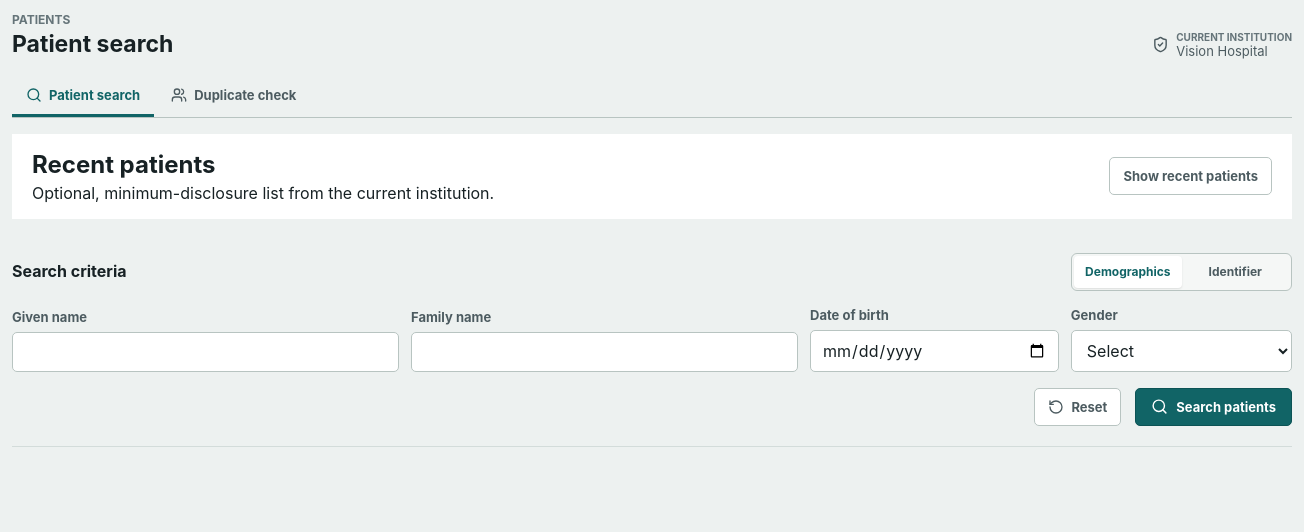
Test: PatientSearchPage › submits configured identifier criteria without client-side normalization
Click the button "Identifier" at (1235, 272), box [1182, 256, 1289, 288]
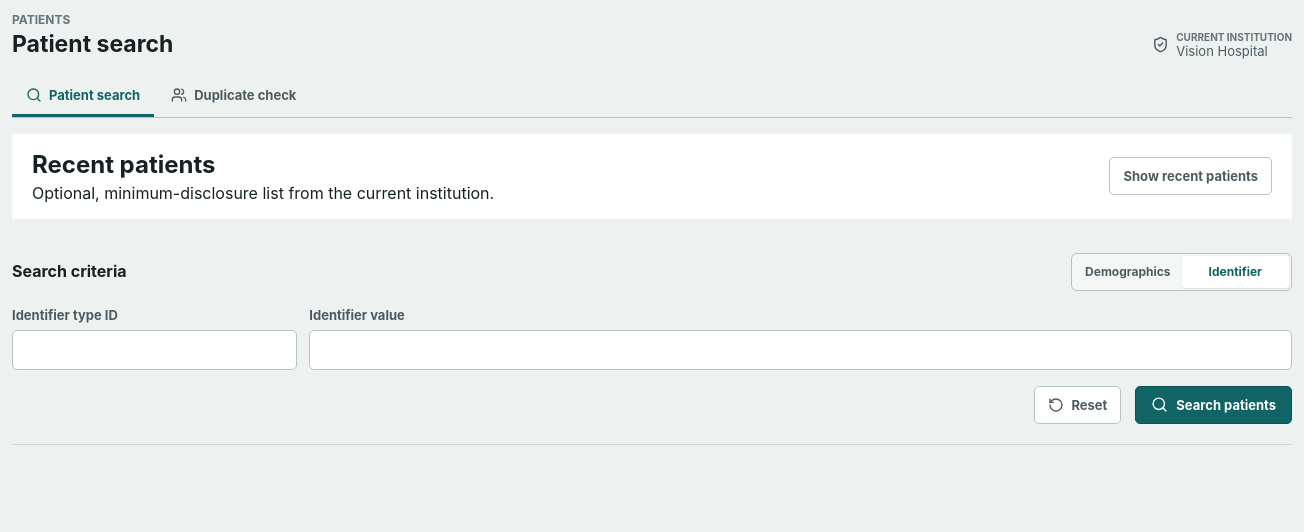
Type "7" into the field labelled "Identifier type ID" at (155, 350), box [12, 330, 297, 370]
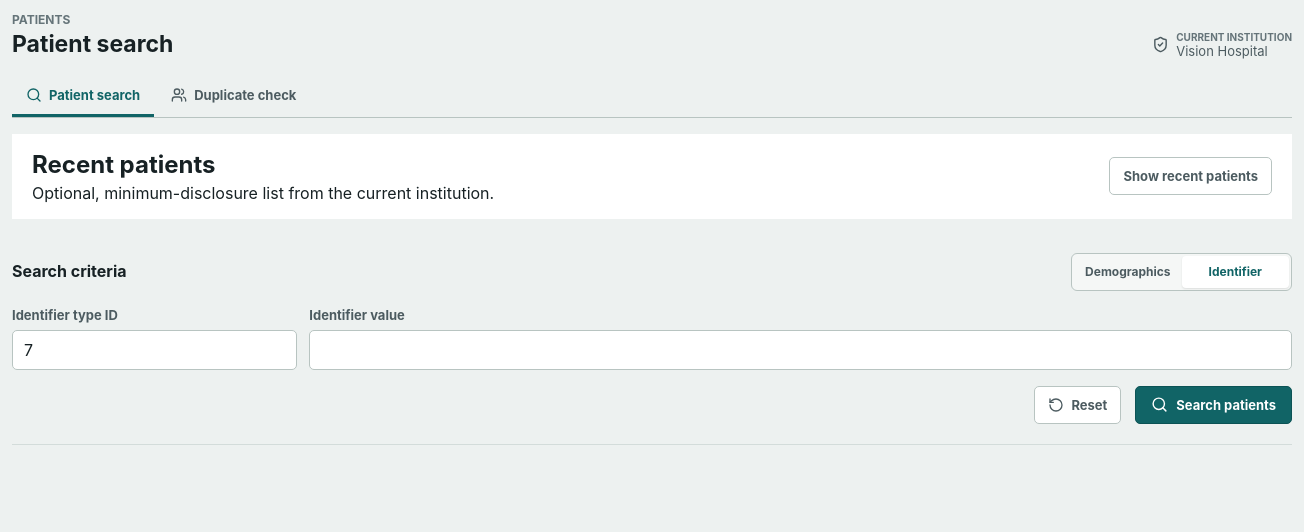
Type " H 123 " into the field labelled "Identifier value" at (801, 350), box [309, 330, 1292, 370]
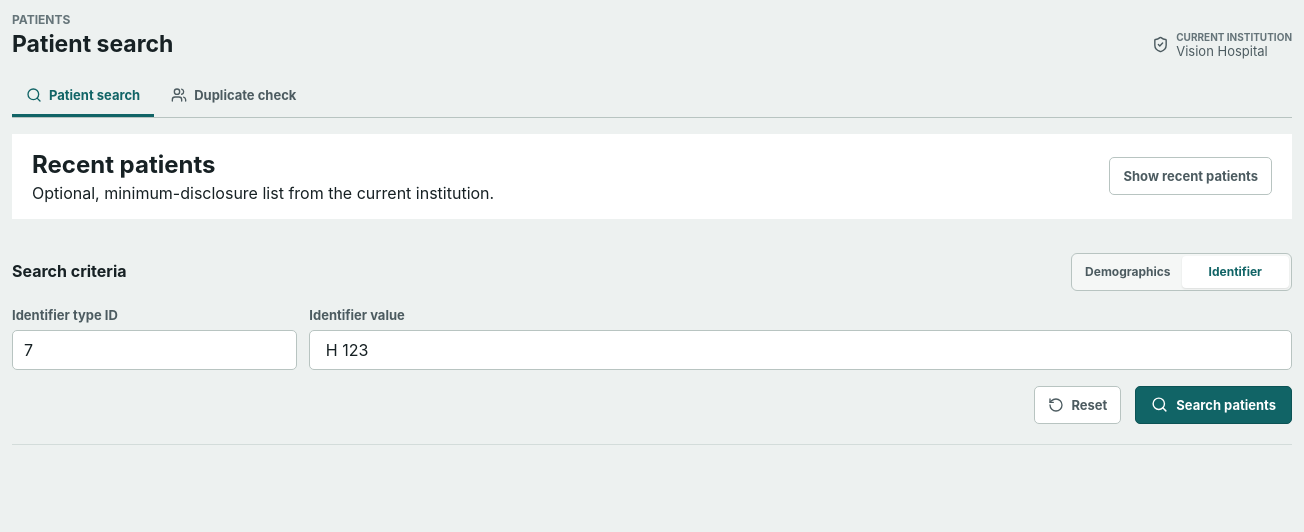
Click the button "Search patients" at (1214, 405), box [1135, 386, 1292, 424]
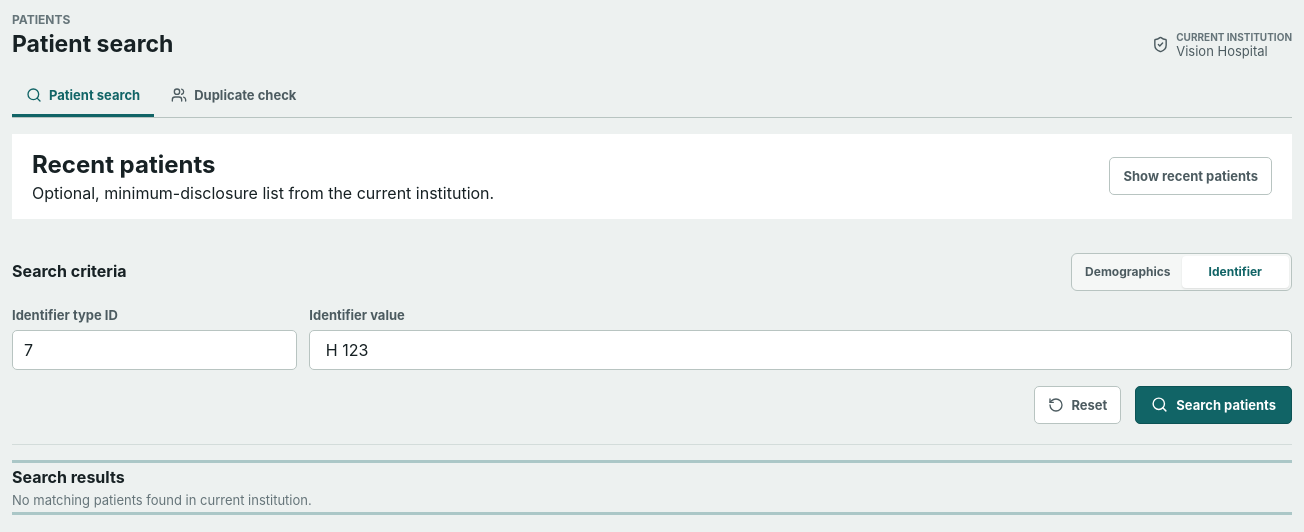
Result: the text "No matching patients found in current institution." is shown at [12, 492, 312, 508]
